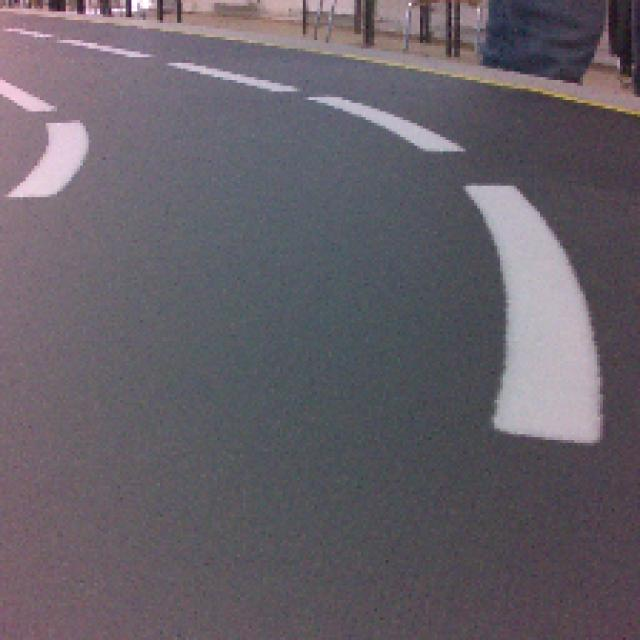Road: (0, 304, 508, 638)
